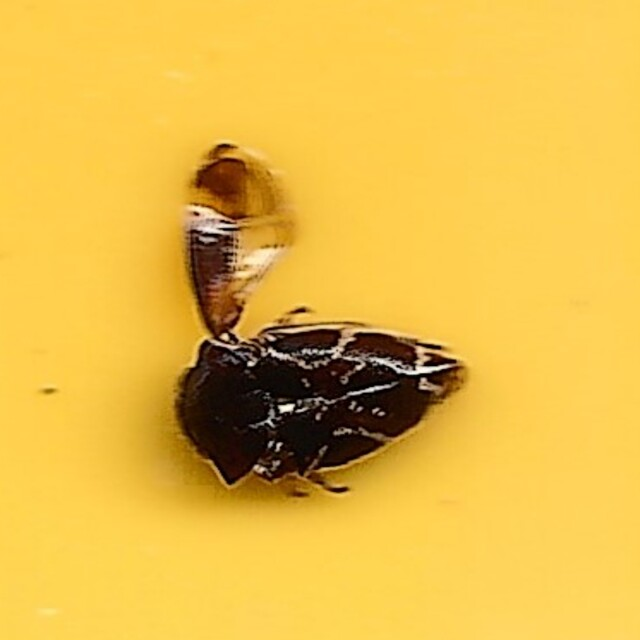Hemiptera: (172, 138, 468, 502)
